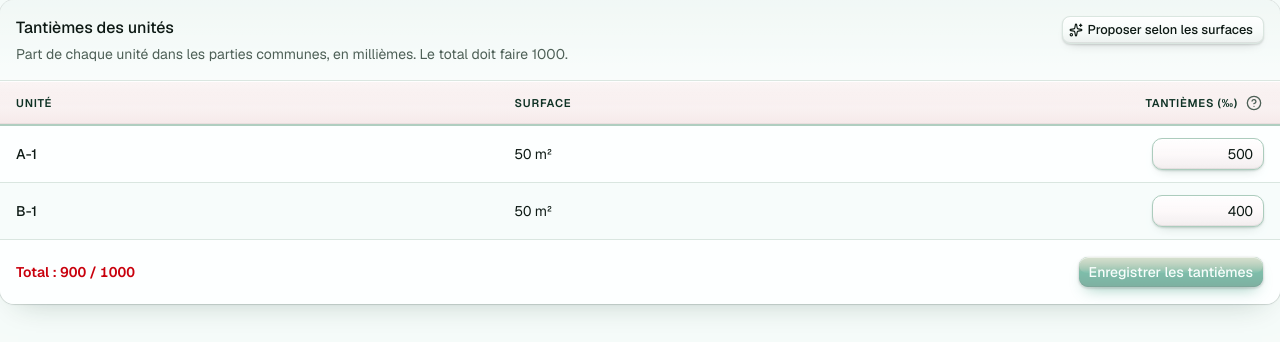
it: SharesTable › flags a value above 1000 as invalid
This screenshot has width=1280, height=342.
Replace the text in the field named "Tantièmes de A-1" with "1200" at (1208, 154), box [1152,138,1264,170]
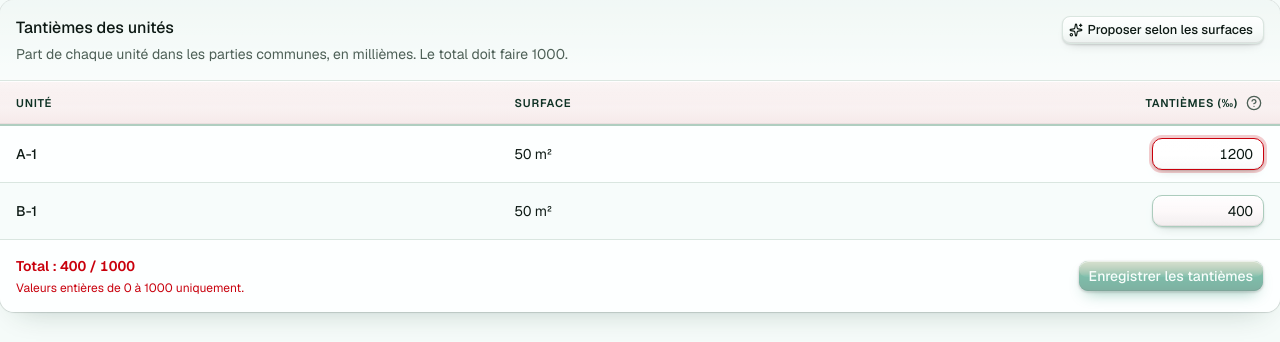
Check: the text "Valeurs entières de 0 à 1000 uniquement." is shown, box [16,280,244,296]
Check: the button "Enregistrer les tantièmes" is disabled, box [1078,260,1264,292]
